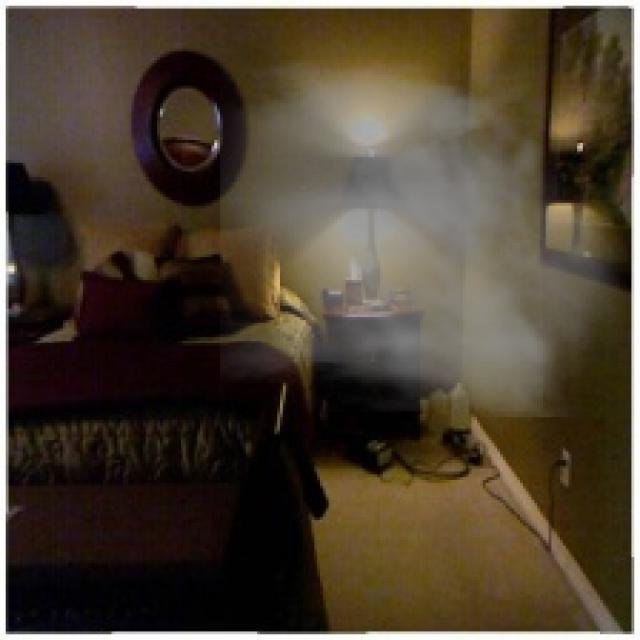Smoke: (220, 60, 637, 417)
